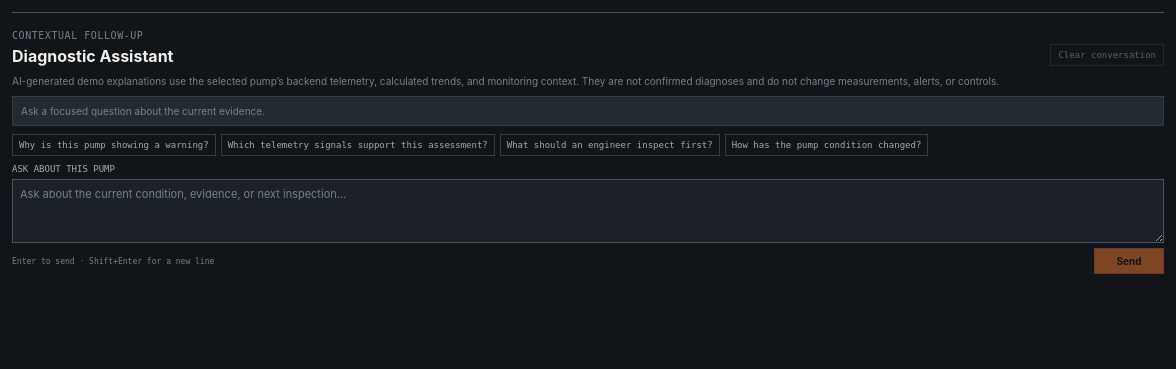
Test: DiagnosticChat › sends a question and renders the assistant response
This screenshot has width=1176, height=369.
Replace the text in the text box labelled "Ask about this pump" with "Why is it warning?" at (588, 211), box [12,179,1164,243]
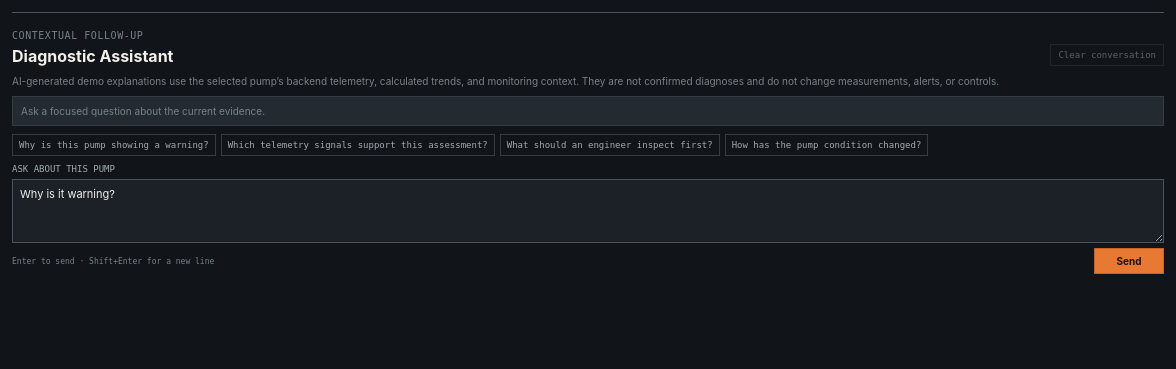
Click the button "Send" at (1129, 261), box [1094,248,1164,274]
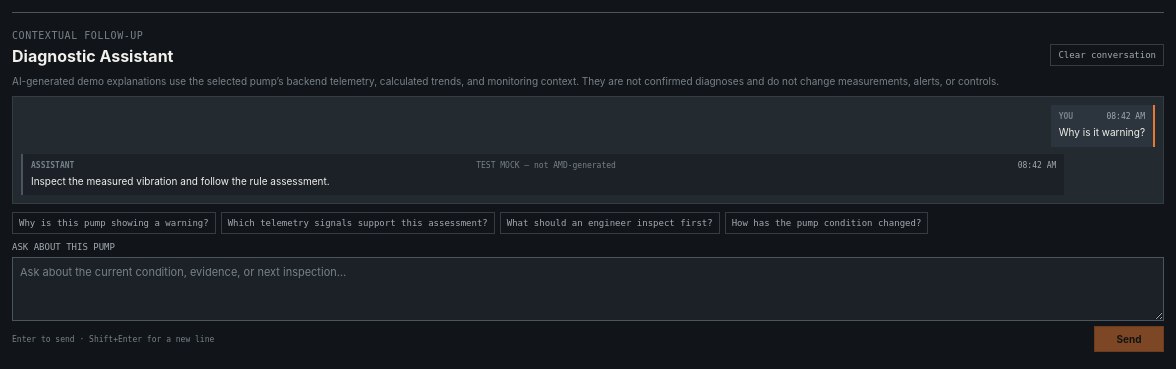
Expected: the text "Why is it warning?" is shown, [1059,126,1145,138]
Expected: the text "Inspect the measured vibration" is shown, [31,174,330,186]
Expected: the text "TEST MOCK — not AMD-generated" is shown, [476,160,616,170]
